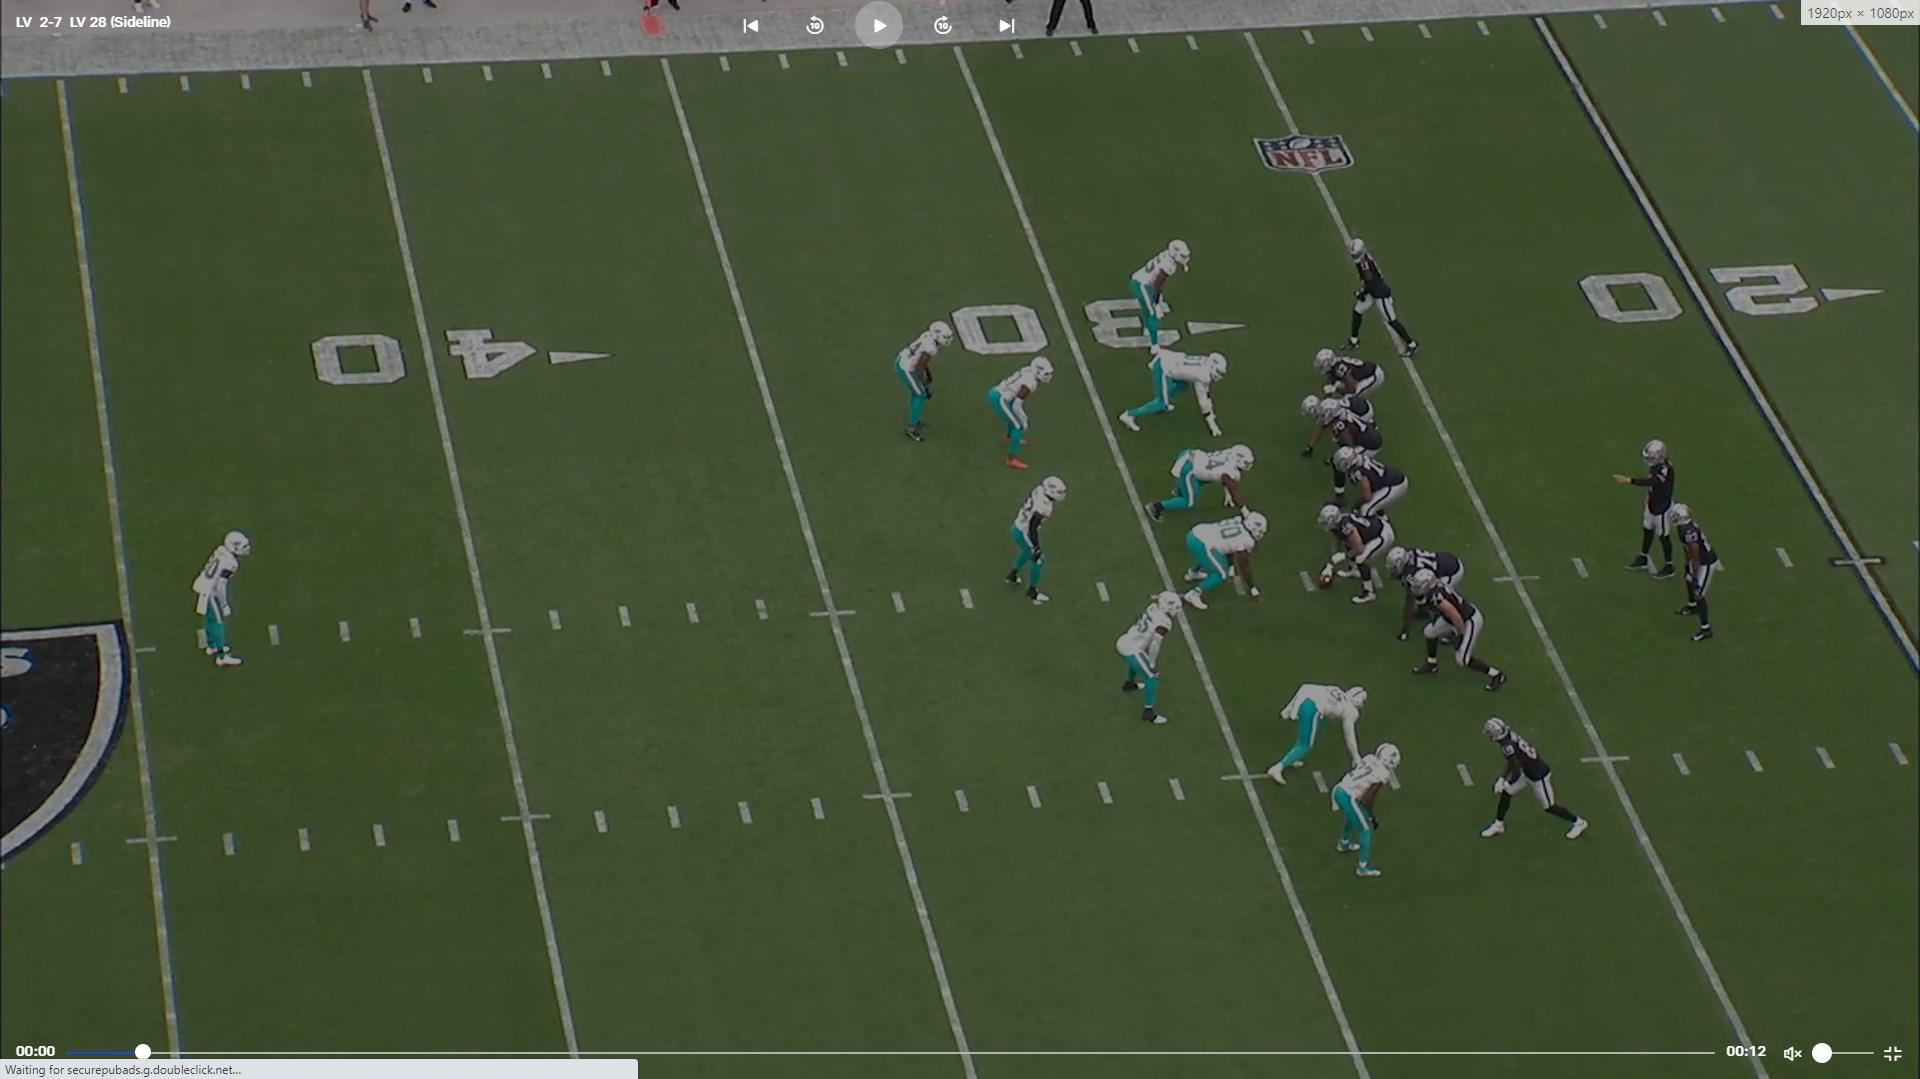defense: (1265, 675, 1371, 781), (1117, 346, 1234, 439), (1112, 586, 1184, 728), (1329, 736, 1399, 879), (193, 526, 257, 678), (1185, 514, 1278, 619), (1007, 471, 1075, 609), (1147, 442, 1258, 525), (988, 354, 1059, 475), (897, 315, 961, 442), (1133, 236, 1199, 354)
oline: (1412, 576, 1513, 695), (1316, 503, 1400, 605), (1390, 546, 1472, 650), (1321, 397, 1395, 507), (1335, 445, 1411, 546)
qb: (1622, 429, 1683, 579)
skill: (1474, 714, 1593, 848), (1342, 233, 1429, 361), (1667, 499, 1725, 650), (1305, 343, 1382, 423), (1294, 390, 1379, 460)
